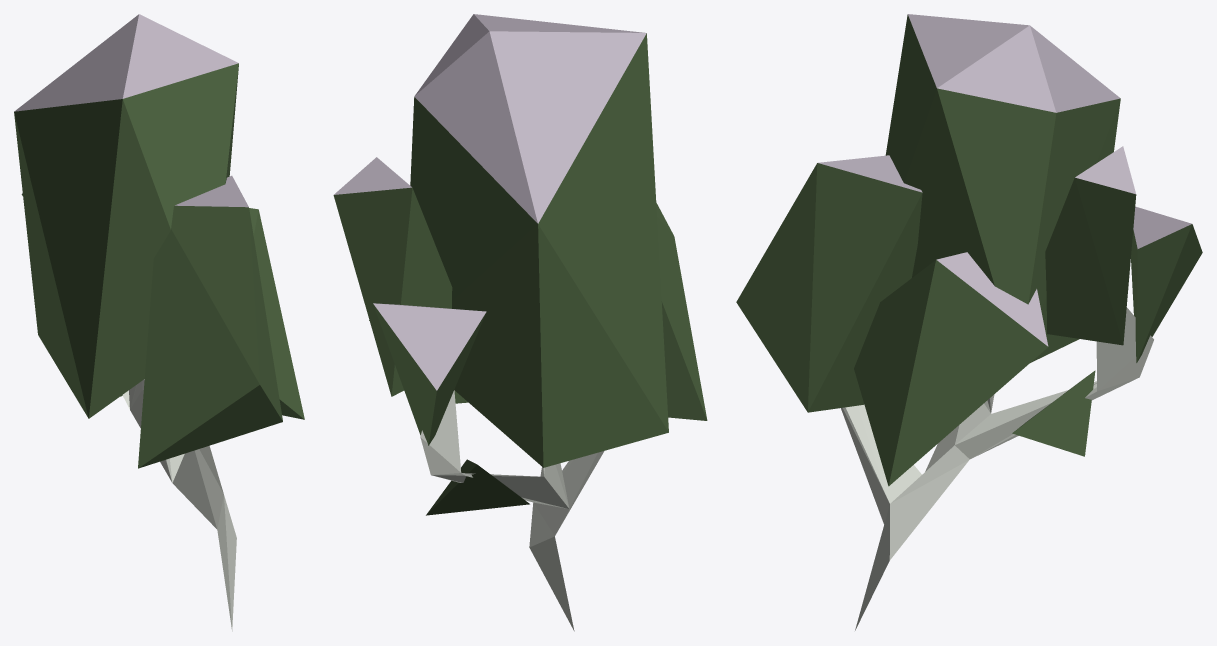
File: BirchTree_Snow_1.lod3.glb
The picture shows the model from 3 angles, left to right: view 1: azimuth 30°, elevation 25°; view 2: azimuth 150°, elevation 25°; view 3: azimuth 270°, elevation 25°; orthographic projection. The views are drawn at different scales.
Parts seen in each view (by area): view 1: BirchTree_Snow_1; view 2: BirchTree_Snow_1; view 3: BirchTree_Snow_1.
Part boxes in pixels (bbox=[...]): BirchTree_Snow_1: bbox=[14, 14, 304, 631]; BirchTree_Snow_1: bbox=[333, 14, 707, 631]; BirchTree_Snow_1: bbox=[736, 14, 1202, 630].
Size of the model in its own units: 1.32 by 3.55 by 2.5.
